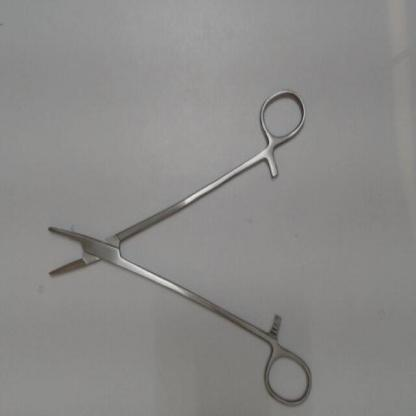8 Mayo Needle Holder: (39, 82, 320, 414)
